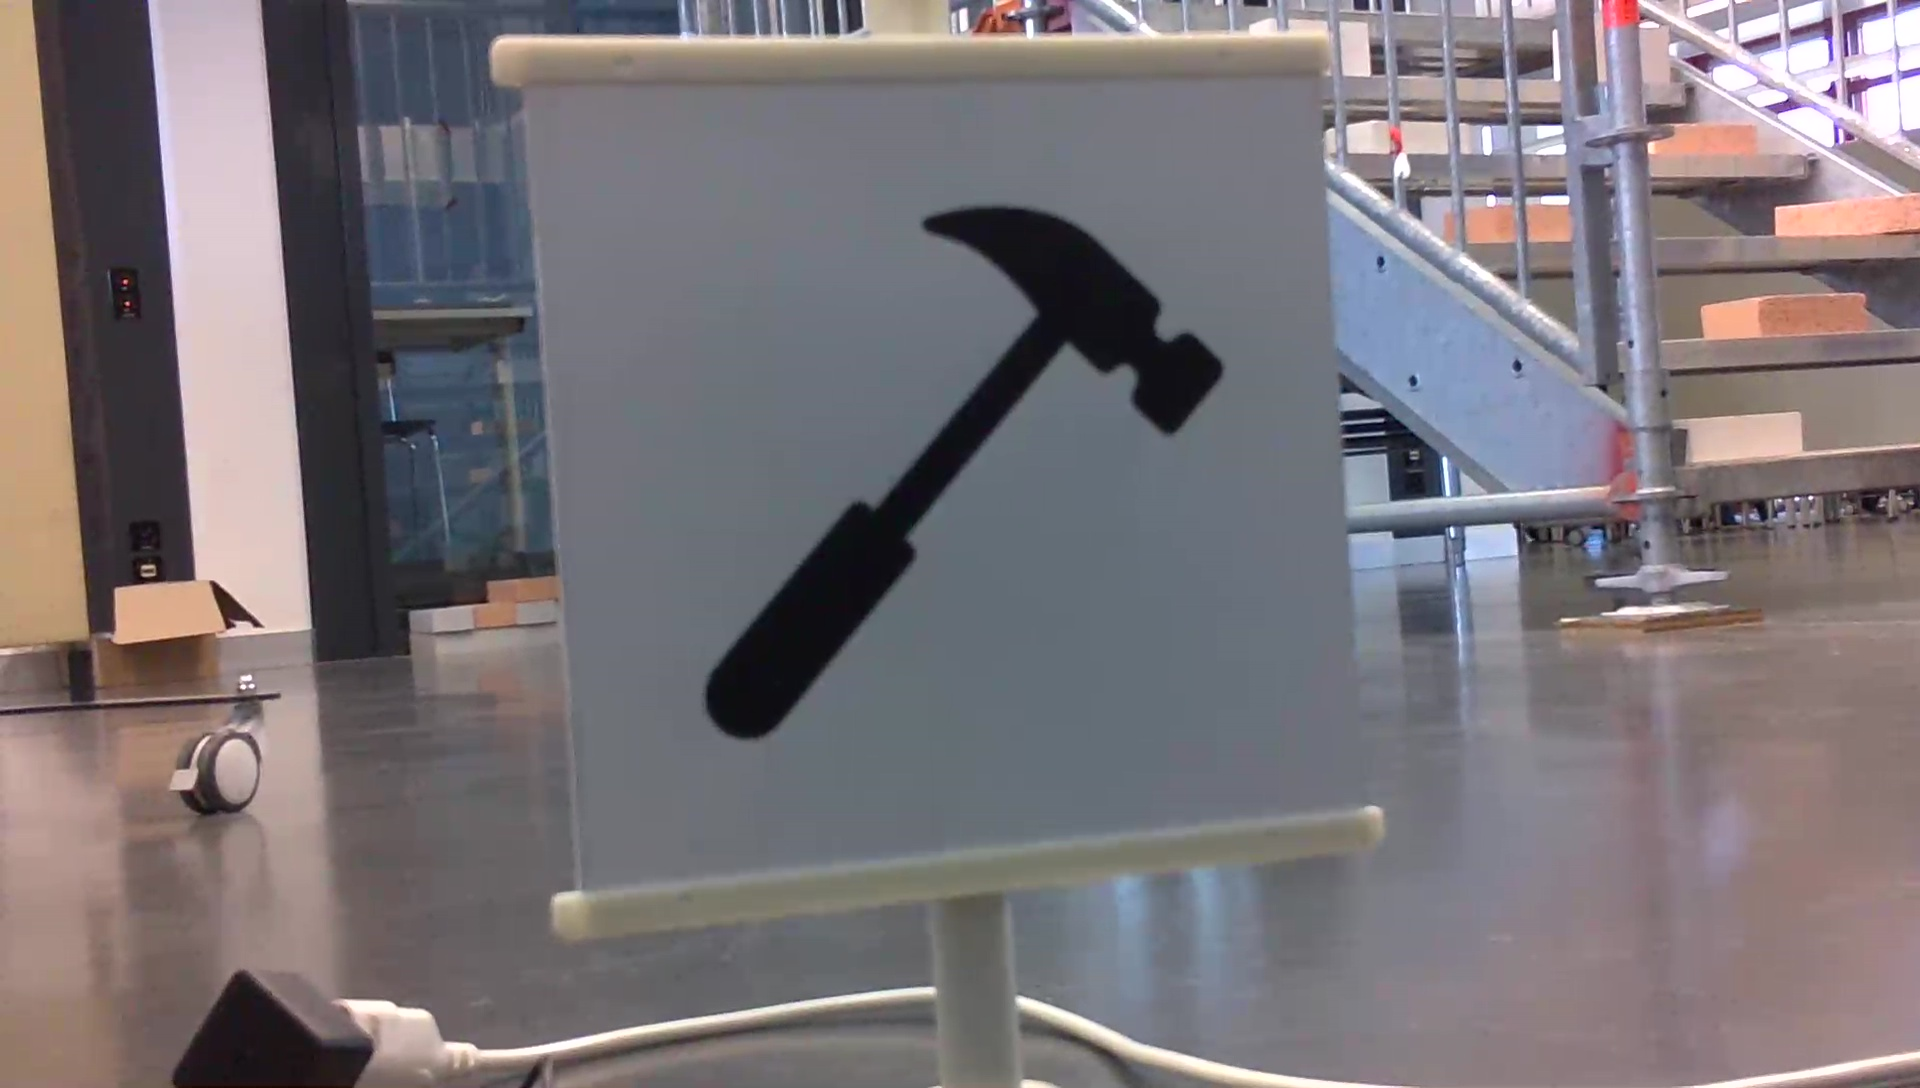brick: (1700, 293, 1865, 334), (1774, 195, 1920, 235), (1688, 413, 1800, 458), (1655, 123, 1755, 158), (1638, 30, 1668, 86)
hammer: (694, 195, 1233, 750)
